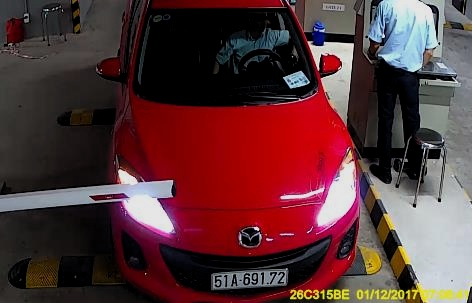plate: (208, 266, 288, 290)
